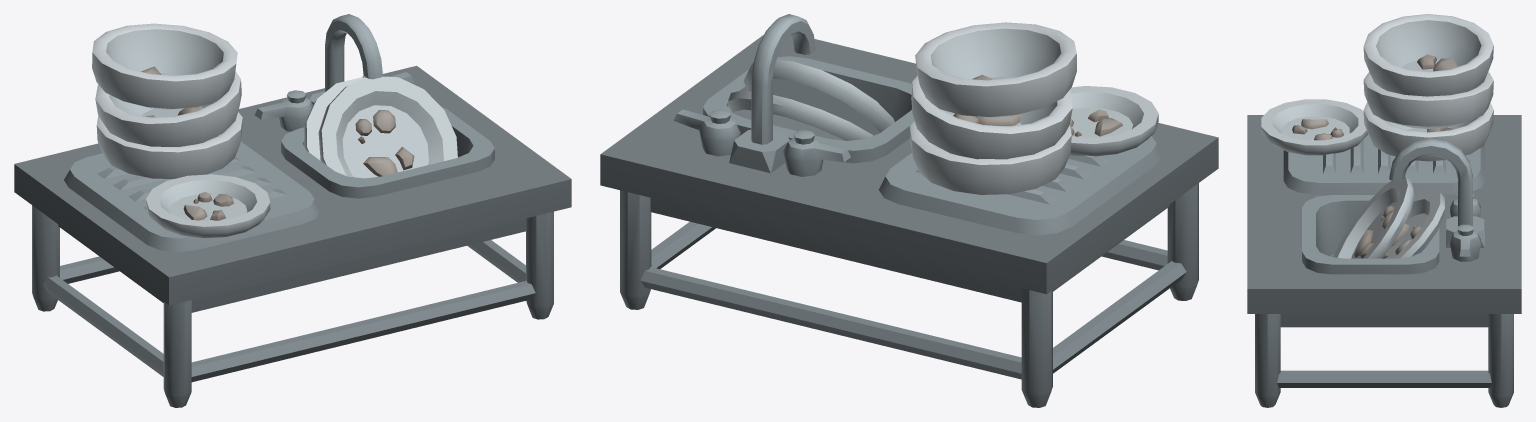
The model's file is kitchentable_sink_large_decorated.obj.
3 views of the same model, side by side, from view 1: azimuth 30°, elevation 25°; view 2: azimuth 150°, elevation 25°; view 3: azimuth 270°, elevation 25° (orthographic). The views are drawn at different scales.
Visible parts, largest first — view 1: kitchentable_sink_large_decorated_Cube.021; view 2: kitchentable_sink_large_decorated_Cube.021; view 3: kitchentable_sink_large_decorated_Cube.021.
Part boxes in pixels (bbox=[...]): kitchentable_sink_large_decorated_Cube.021: bbox=[14, 14, 571, 407]; kitchentable_sink_large_decorated_Cube.021: bbox=[600, 14, 1218, 407]; kitchentable_sink_large_decorated_Cube.021: bbox=[1247, 14, 1521, 407].
Bounding box in the file's own units: 3 × 1.95 × 2.
1 material, 1 textured.
